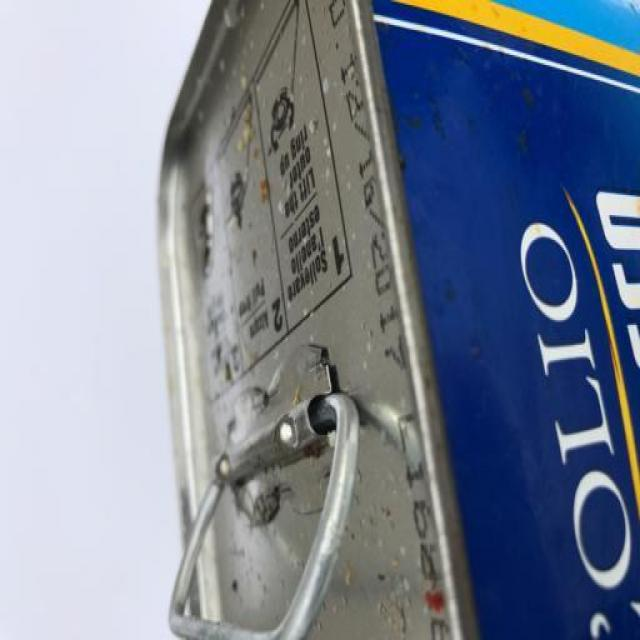metel: (140, 3, 640, 622)
